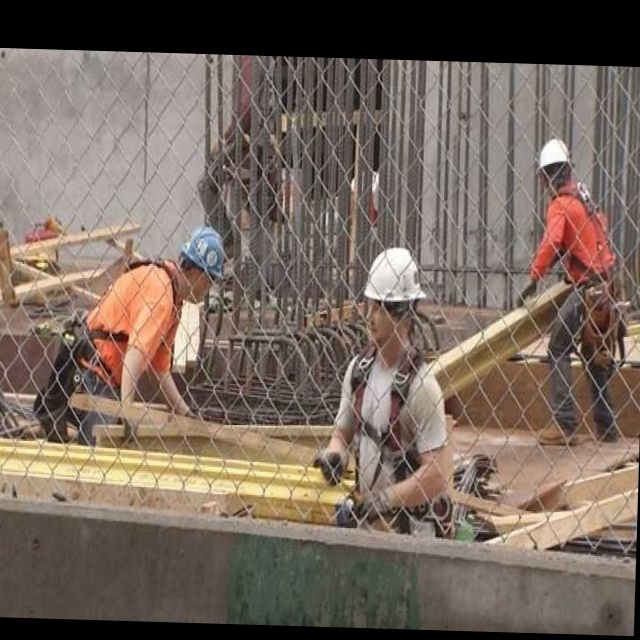Con_Casco: (367, 248, 423, 338), (180, 222, 228, 305), (534, 136, 572, 192)
